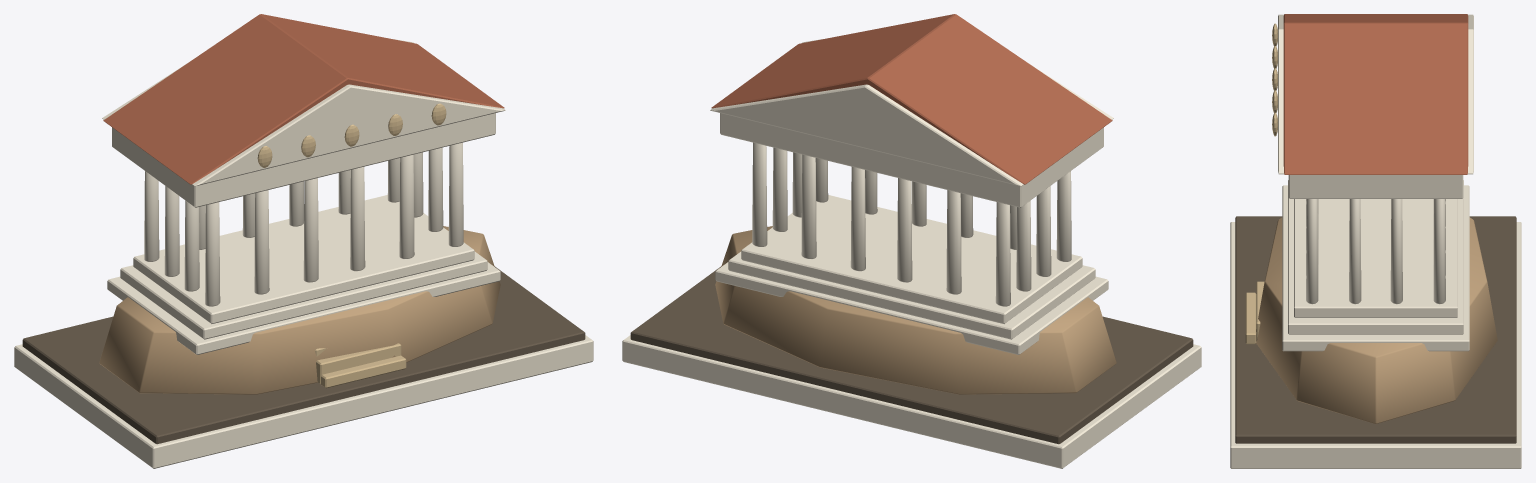
Rendered from acropolis.glb.
3 views of the same model, side by side, from view 1: azimuth 30°, elevation 25°; view 2: azimuth 150°, elevation 25°; view 3: azimuth 270°, elevation 25° (orthographic). The views are drawn at different scales.
Visible parts, largest first — view 1: Acropolis; view 2: Acropolis; view 3: Acropolis.
Part boxes in pixels (x1,y1,x2,y2): Acropolis: (14, 14, 593, 468); Acropolis: (622, 14, 1201, 468); Acropolis: (1230, 14, 1521, 468).
Bounding box in the file's own units: 1.47 × 1.02 × 0.8064.
